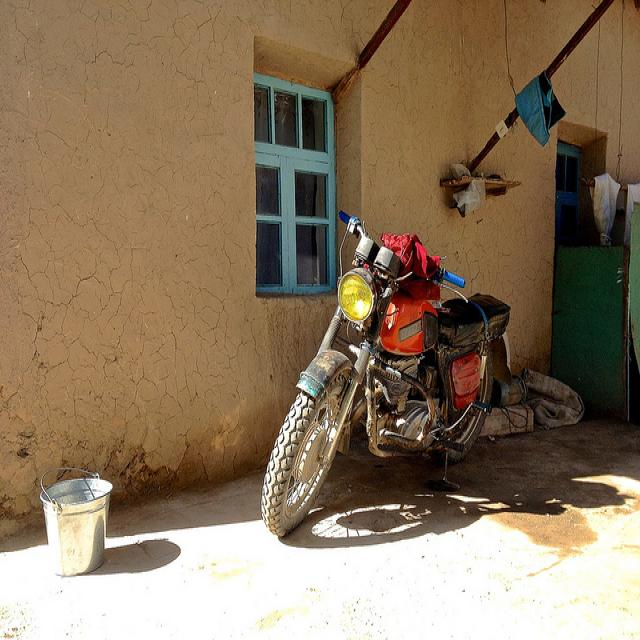motor: (261, 207, 517, 534)
